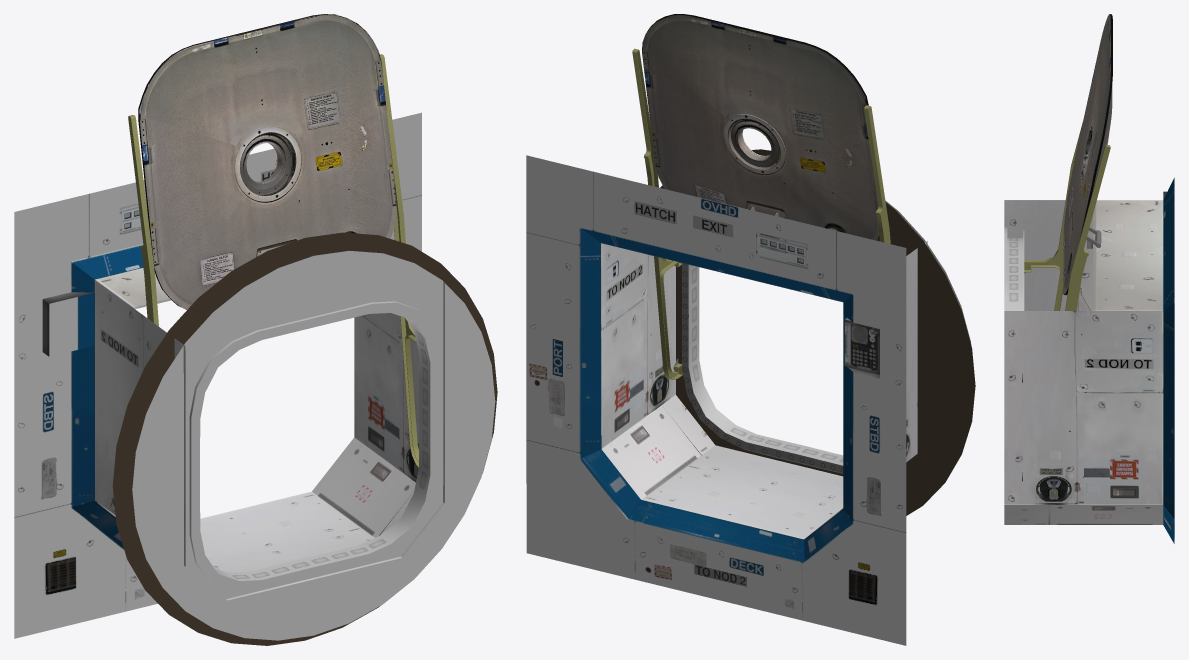
File: US_Lab_FwdEnd.C.obj
3 renders of one model, left to right at view 1: azimuth 30°, elevation 25°; view 2: azimuth 150°, elevation 25°; view 3: azimuth 270°, elevation 25°, orthographic. The views are drawn at different scales.
Bounding box in the file's own units: 2.26 × 3.1 × 0.9319.
